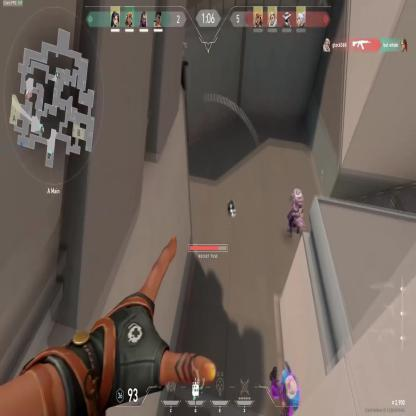enemy: (285, 186, 303, 242)
enemy_head: (294, 189, 302, 199)
